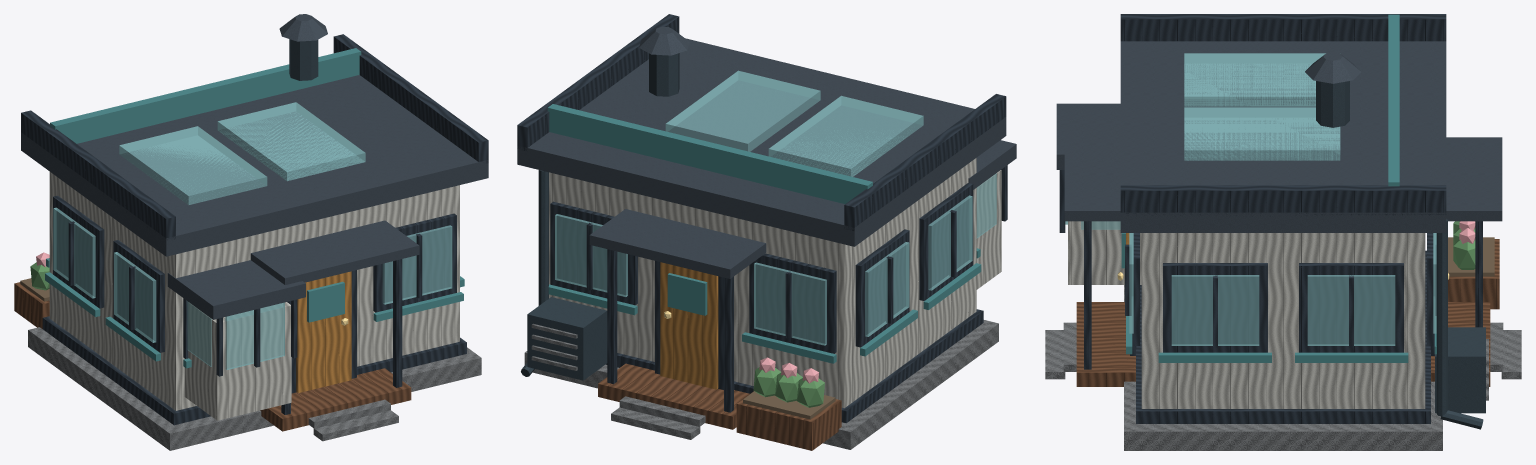
The model's file is house_modern_lv1_bay.glb.
3 renders of one model, left to right at view 1: azimuth 30°, elevation 25°; view 2: azimuth 150°, elevation 25°; view 3: azimuth 270°, elevation 25°, orthographic. The views are drawn at different scales.
Visible parts, largest first — view 1: flat_roof, walls, bay_base, foundation, roof_terrace, solar_panel.001, solar_panel, front_porch_canopy, bay_cap, front_door, front_window_frame.001, parapet (+22 smaller); view 2: flat_roof, walls, roof_terrace, solar_panel, solar_panel.001, back_porch_canopy, back_window_frame, foundation, back_door, back_window_frame.001, parapet, back_ac_unit (+33 smaller); view 3: flat_roof, walls, parapet.001, foundation, right_window_frame, right_window_frame.001, parapet, solar_panel.001, solar_panel, right_window_glass.001, right_window_glass, floor_trim (+26 smaller).
Boxes of the visible parts, bbox=[...] form: flat_roof: bbox=[21, 75, 488, 256]; walls: bbox=[49, 172, 459, 410]; bay_base: bbox=[184, 302, 291, 420]; foundation: bbox=[28, 327, 481, 450]; roof_terrace: bbox=[50, 48, 361, 143]; solar_panel.001: bbox=[217, 102, 365, 181]; solar_panel: bbox=[119, 126, 267, 204]; front_porch_canopy: bbox=[250, 220, 419, 284]; bay_cap: bbox=[167, 260, 305, 319]; front_door: bbox=[296, 271, 351, 392]; front_window_frame.001: bbox=[373, 213, 456, 312]; parapet: bbox=[21, 110, 175, 240]; flat_roof: bbox=[517, 38, 1006, 246]; walls: bbox=[549, 158, 976, 408]; roof_terrace: bbox=[547, 104, 872, 203]; solar_panel: bbox=[768, 95, 923, 176]; solar_panel.001: bbox=[665, 70, 820, 151]; back_porch_canopy: bbox=[589, 209, 766, 278]; back_window_frame: bbox=[749, 253, 836, 353]; foundation: bbox=[524, 320, 998, 449]; back_door: bbox=[660, 262, 718, 389]; back_window_frame.001: bbox=[550, 201, 637, 305]; parapet: bbox=[844, 94, 1006, 230]; back_ac_unit: bbox=[527, 297, 607, 380]; flat_roof: bbox=[1120, 41, 1446, 232]; walls: bbox=[1141, 233, 1425, 408]; parapet.001: bbox=[1120, 185, 1446, 216]; foundation: bbox=[1124, 285, 1442, 450]; right_window_frame: bbox=[1163, 263, 1267, 352]; right_window_frame.001: bbox=[1299, 263, 1403, 352]; parapet: bbox=[1120, 14, 1446, 41]; solar_panel.001: bbox=[1184, 107, 1340, 160]; solar_panel: bbox=[1184, 53, 1325, 106]; right_window_glass.001: bbox=[1307, 275, 1395, 345]; right_window_glass: bbox=[1171, 275, 1259, 345]; floor_trim: bbox=[1136, 250, 1430, 423].
Bounding box in the file's own units: 2.95 × 2.71 × 3.36.
13 materials, 7 textured.
